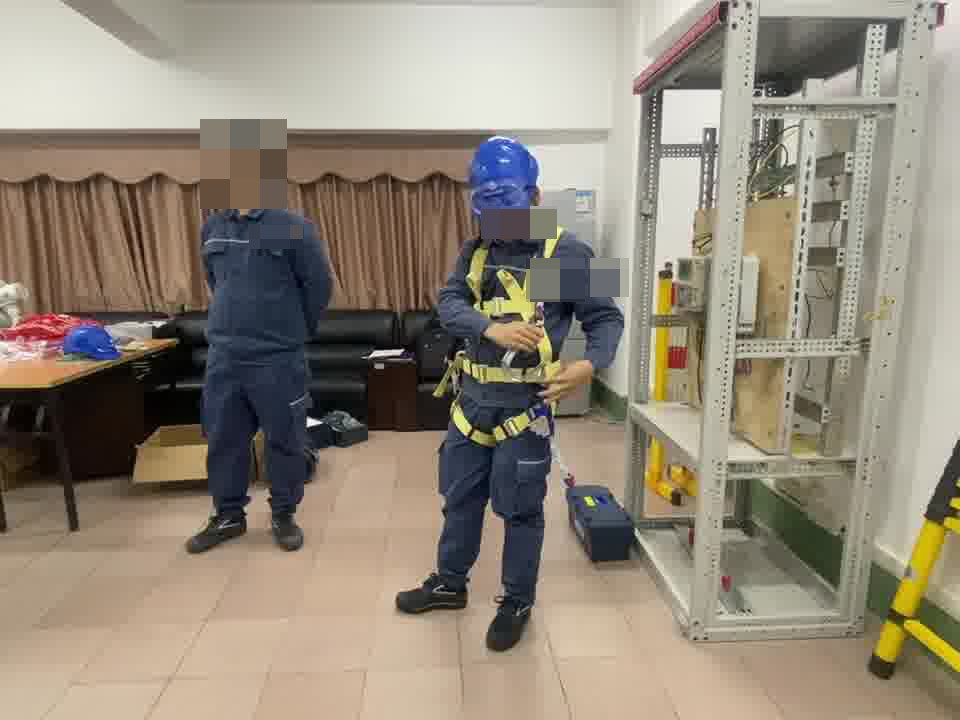downsuit: (433, 404, 556, 600), (198, 368, 315, 513)
halt: (467, 136, 544, 234)
hand: (539, 361, 590, 403), (485, 319, 541, 353)
noear: (220, 157, 268, 190)
person: (408, 135, 627, 648), (187, 130, 337, 548)
safebelt: (430, 228, 565, 449)
sleeve: (597, 261, 612, 286)
unhalt: (209, 132, 277, 204)
upsuit: (438, 215, 613, 371), (198, 199, 334, 354)
